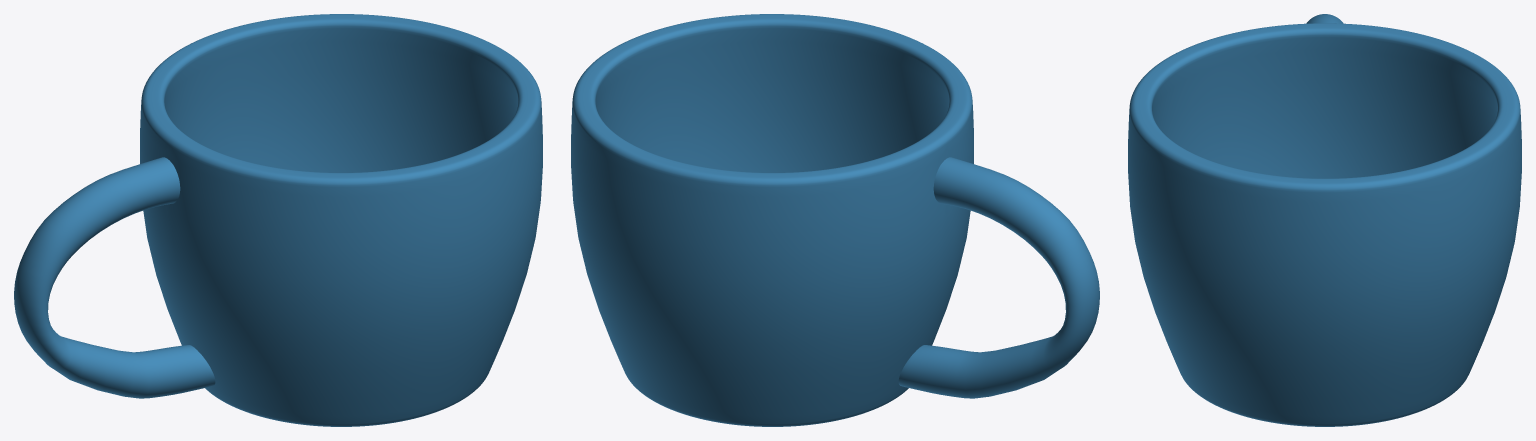
Rendered from cup.fbx.
3 views of the same model, side by side, from view 1: azimuth 30°, elevation 25°; view 2: azimuth 150°, elevation 25°; view 3: azimuth 270°, elevation 25° (orthographic). The views are drawn at different scales.
Parts seen in each view (by area): view 1: cup; view 2: cup; view 3: cup.
Part boxes in pixels (<box>): cup: <box>14,14,542,426</box>; cup: <box>571,14,1099,426</box>; cup: <box>1128,14,1521,426</box>.
Size of the model in its own units: 17.63 by 9.18 by 12.38.
